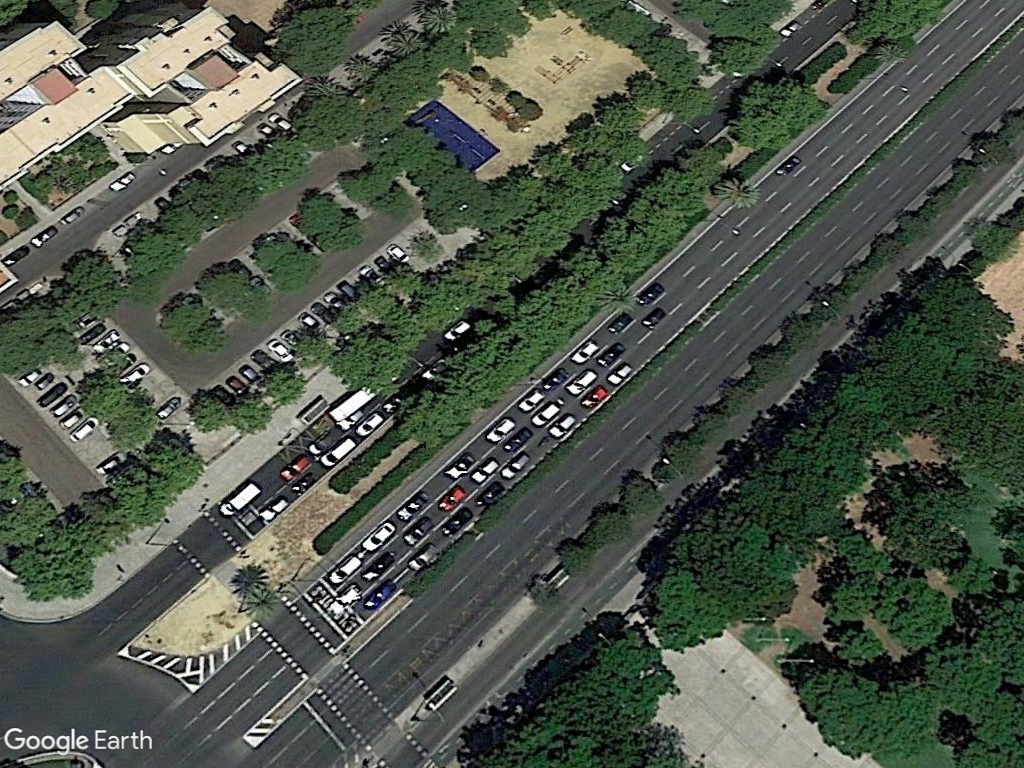truck: (208, 481, 262, 518)
van: (321, 553, 367, 584)
